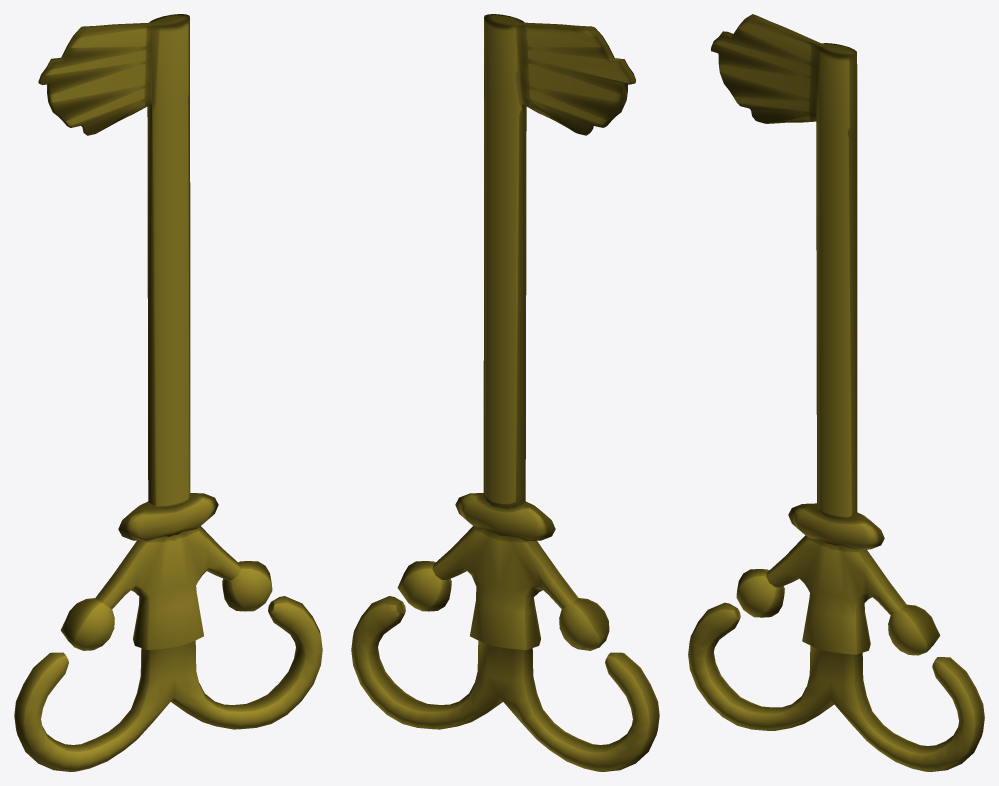
The model's file is BgMD_key.fbx.
3 renders of one model, left to right at view 1: azimuth 30°, elevation 25°; view 2: azimuth 150°, elevation 25°; view 3: azimuth 330°, elevation 25°, orthographic. The views are drawn at different scales.
Visible parts, largest first — view 1: Bg_Key2; view 2: Bg_Key2; view 3: Bg_Key2.
Boxes of the visible parts, box(x1,y1,x2,y2) form: Bg_Key2: box(14, 14, 322, 771); Bg_Key2: box(351, 14, 659, 771); Bg_Key2: box(688, 14, 984, 771).
Size of the model in its own units: 32.33 by 75.1 by 4.31.
